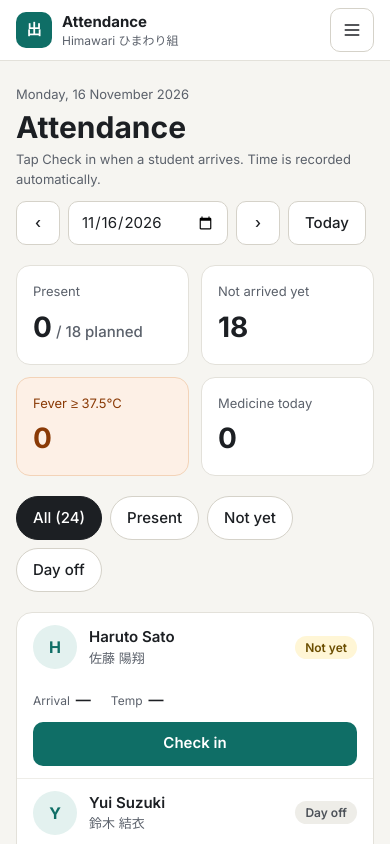
Test case: Menu › opens and closes the phone menu drawer
This screenshot has width=390, height=844.
Later steps or results of the test are not shown.
Click the button named "Open menu".
click(352, 30)  # box [330,8,374,52]
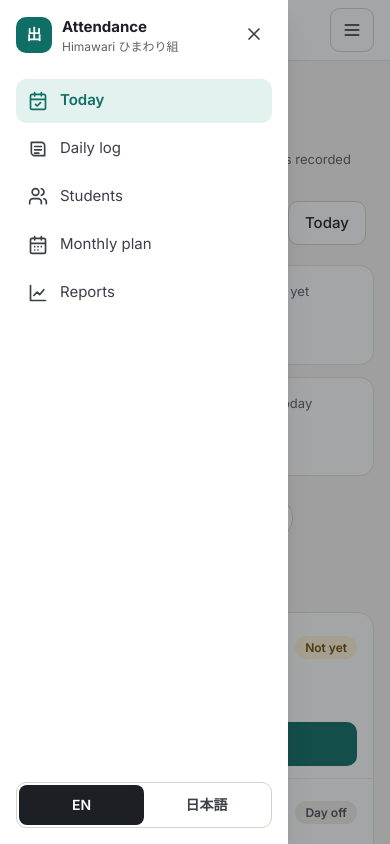
expect the number of navigation bars "Main" is 2: met
